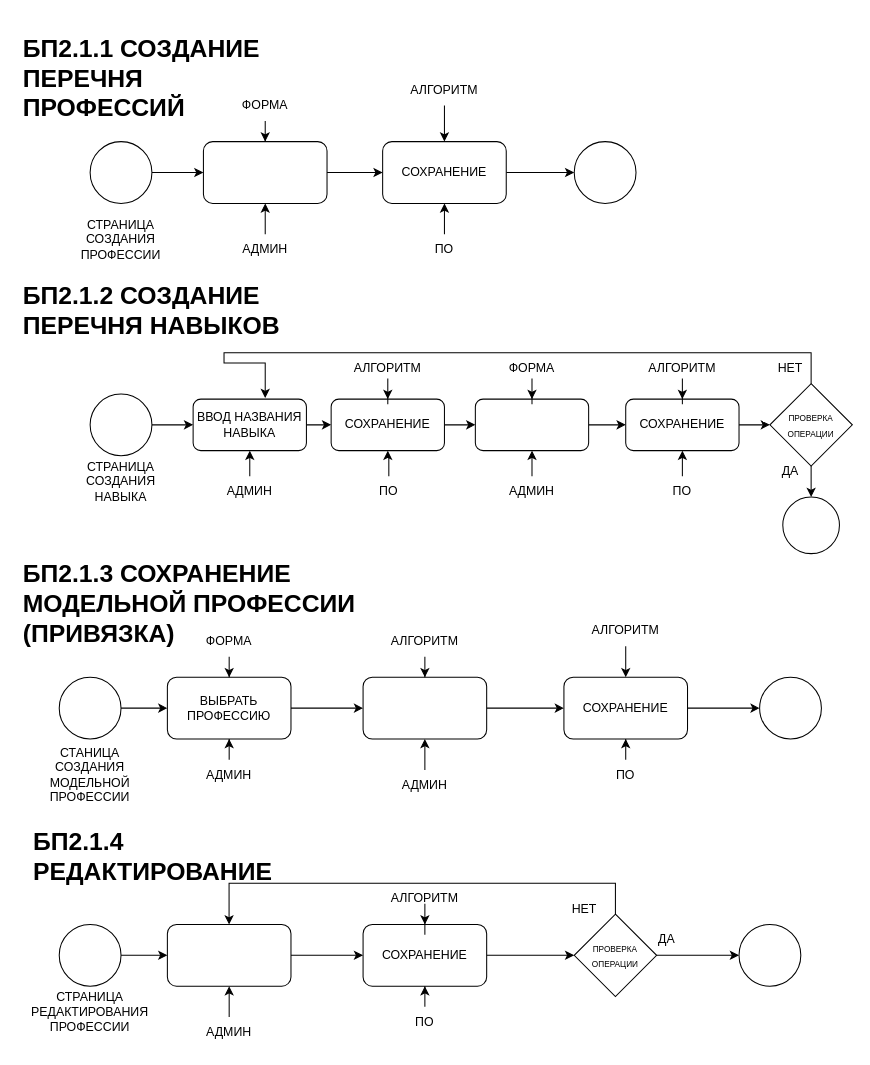
Image size: 870x1065. Some labels were removed from this diagram. Here are the shapes that lost their labels. From the top down, the centre of each, then its label:
At point (264, 172): "ВВОД НАЗВАНИЯ ПРОФЕССИИ".
At point (531, 424): "ВВОД ВОПРОСА".
At point (424, 707): "ЗАПОЛНИТЬ БАЛЫ НАВЫКОВ".
At point (228, 954): "РЕДАКТИРОВАНИЕ".
